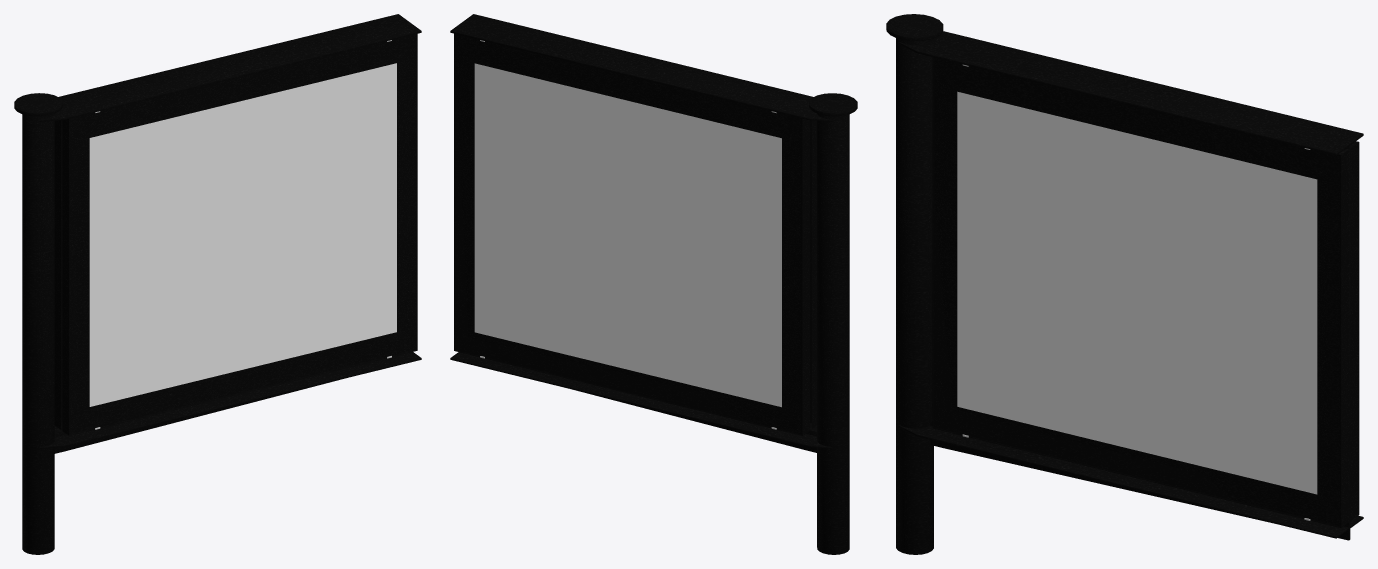
Rendered from 1_Leg_outdoor_city_floorstand.fbx.
3 views of the same model, side by side, from view 1: azimuth 30°, elevation 25°; view 2: azimuth 150°, elevation 25°; view 3: azimuth 330°, elevation 25° (orthographic). The views are drawn at different scales.
Visible parts, largest first — view 1: 1_Leg_outdoor_city_floorstand_Ad001, 1_Leg_outdoor_city_floorstand_Frame; view 2: 1_Leg_outdoor_city_floorstand_Ad002, 1_Leg_outdoor_city_floorstand_Frame; view 3: 1_Leg_outdoor_city_floorstand_Ad001, 1_Leg_outdoor_city_floorstand_Frame.
Boxes of the visible parts, x1,y1,x2,y2 form: 1_Leg_outdoor_city_floorstand_Ad001: (89,63,396,406); 1_Leg_outdoor_city_floorstand_Frame: (14,14,421,554); 1_Leg_outdoor_city_floorstand_Ad002: (474,63,781,407); 1_Leg_outdoor_city_floorstand_Frame: (450,14,857,554); 1_Leg_outdoor_city_floorstand_Ad001: (957,91,1317,494); 1_Leg_outdoor_city_floorstand_Frame: (886,14,1363,554).
Bounding box in the file's own units: 38.38 × 41.5 × 3.95.
3 materials, 3 textured.
